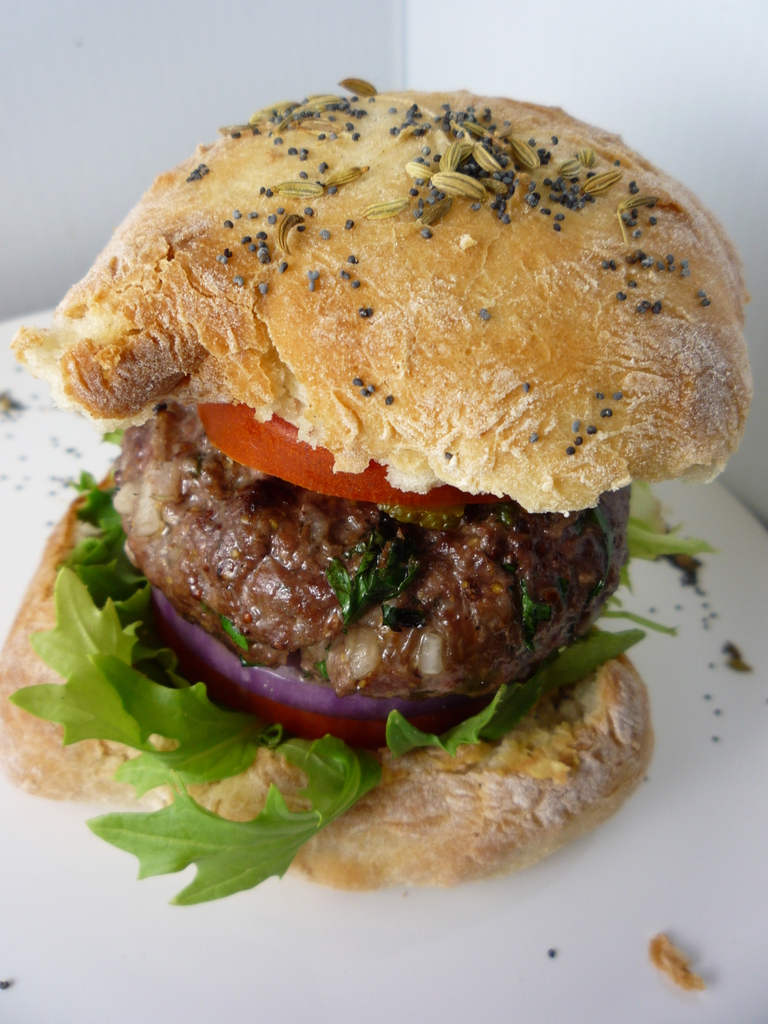Hamburger: (0, 74, 759, 910)
